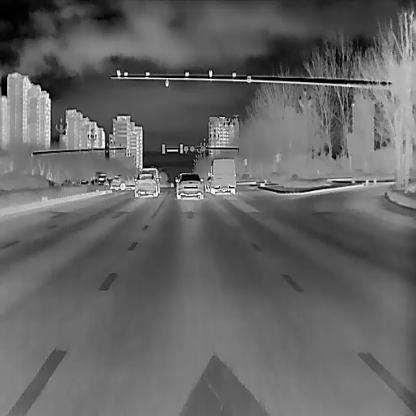car: (208, 157, 236, 193), (174, 172, 204, 199), (133, 173, 160, 197), (140, 166, 160, 194), (111, 173, 135, 190)
